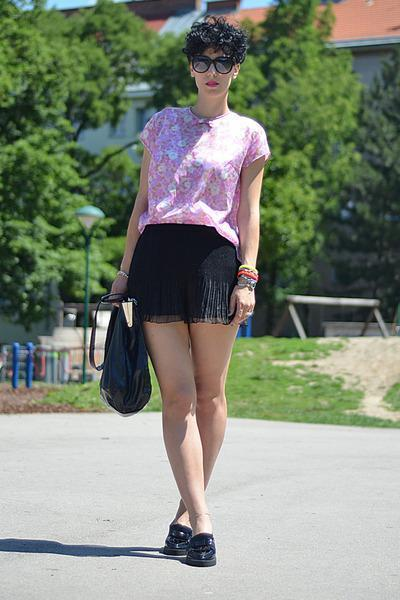bag: (89, 307, 158, 414)
shirt: (138, 96, 270, 244)
shoe: (156, 524, 215, 566)
skirt: (108, 223, 245, 323)
sunglass: (194, 47, 229, 72)
